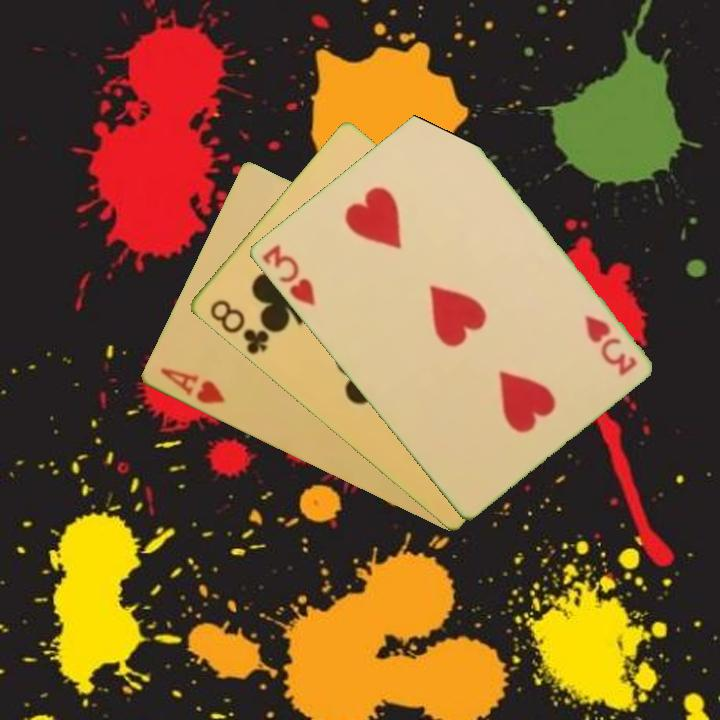3h: (258, 240, 318, 309), (580, 311, 639, 379)
8c: (205, 296, 272, 358)
Ah: (156, 364, 228, 408)
